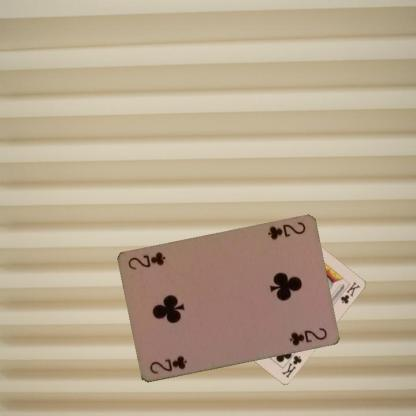2c: (264, 219, 306, 242), (147, 353, 188, 376)
Kc: (279, 352, 303, 379)
